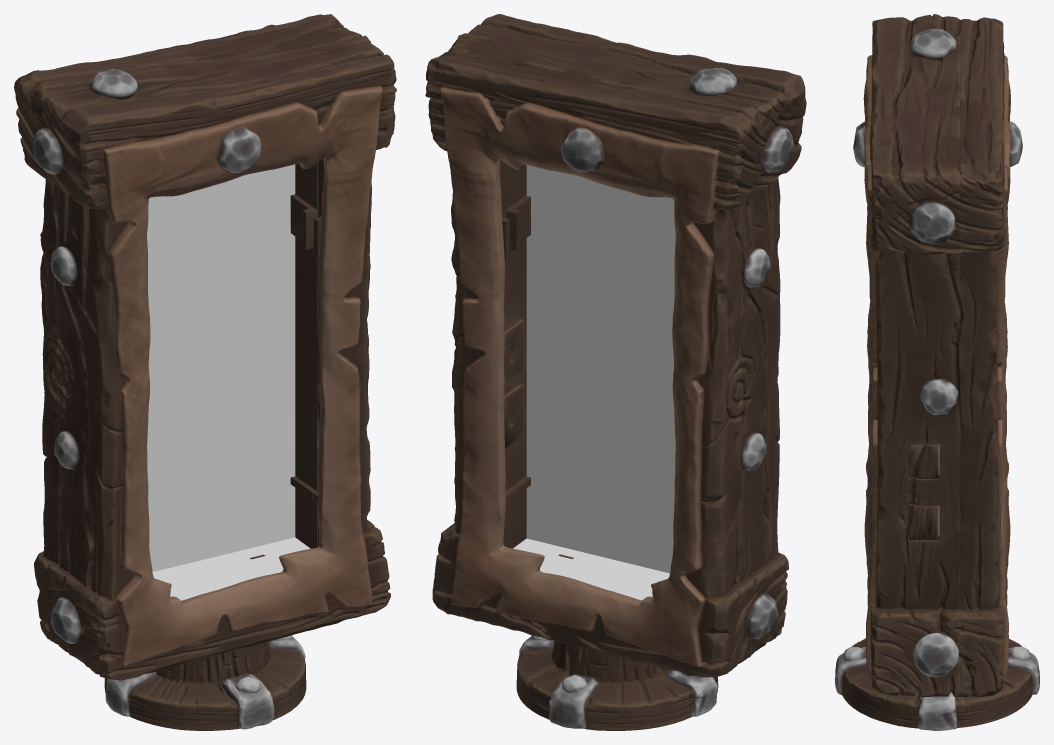
Rendered from Customize 3D Model - Wanted.glb.
3 renders of one model, left to right at view 1: azimuth 30°, elevation 25°; view 2: azimuth 150°, elevation 25°; view 3: azimuth 270°, elevation 25°, orthographic. The views are drawn at different scales.
Parts seen in each view (by area): view 1: (NEW!!!!) sign, Cube; view 2: (NEW!!!!) sign, Cube; view 3: (NEW!!!!) sign.
Boxes of the visible parts, left/top/right/bottom form: (NEW!!!!) sign: left=14, top=14, right=396, bottom=730; Cube: left=147, top=164, right=310, bottom=600; (NEW!!!!) sign: left=425, top=14, right=806, bottom=730; Cube: left=513, top=165, right=675, bottom=600; (NEW!!!!) sign: left=835, top=14, right=1039, bottom=730.
Bounding box in the file's own units: 1.23 × 2.2 × 0.6689.
Materials: 2 (2 with a texture image).
